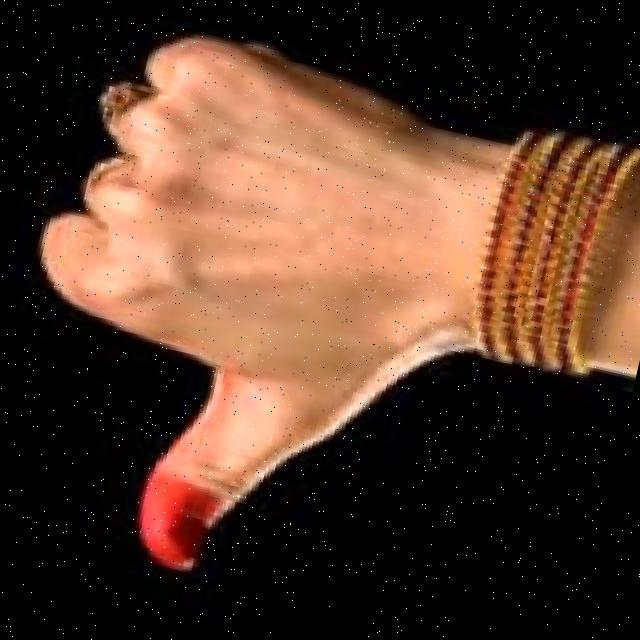Shikhara: (0, 0, 495, 635)
